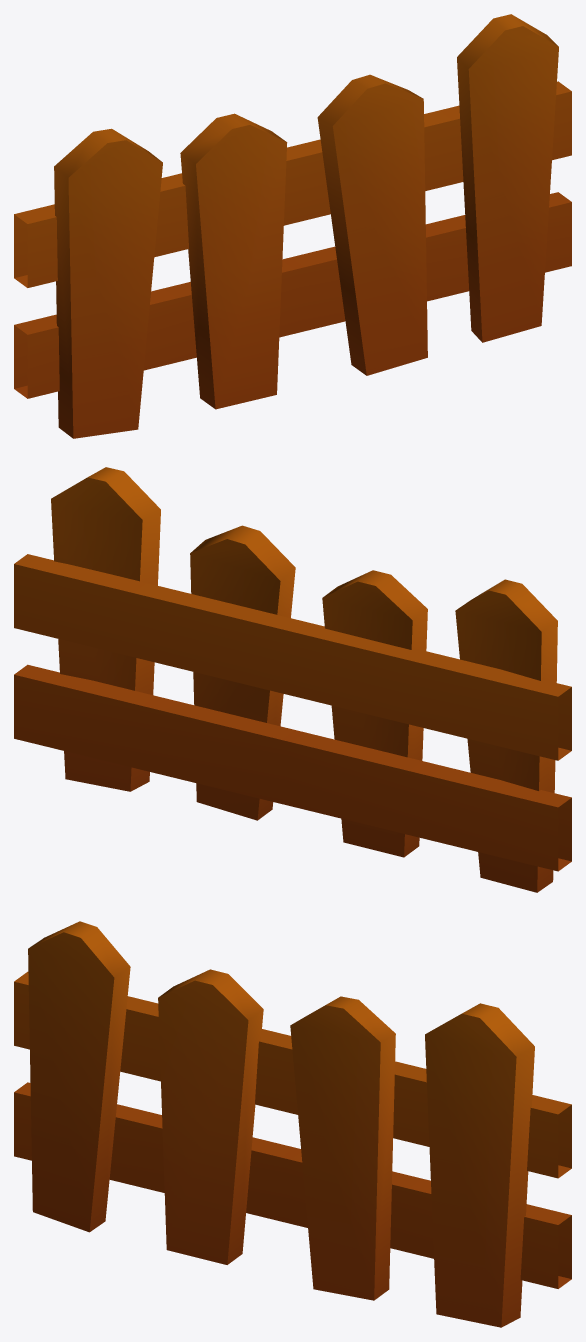
File: Farm_Fence_B_01.fbx
The picture shows the model from 3 angles, top to bottom: view 1: azimuth 30°, elevation 25°; view 2: azimuth 150°, elevation 25°; view 3: azimuth 330°, elevation 25°; orthographic projection.
Parts seen in each view (by area): view 1: Farm_Fence_B_01; view 2: Farm_Fence_B_01; view 3: Farm_Fence_B_01.
Part boxes in pixels (x1,y1,x2,y2): Farm_Fence_B_01: (14, 14, 571, 438); Farm_Fence_B_01: (14, 467, 571, 892); Farm_Fence_B_01: (14, 921, 571, 1327).
Size of the model in its own units: 200 by 108 by 21.48.
